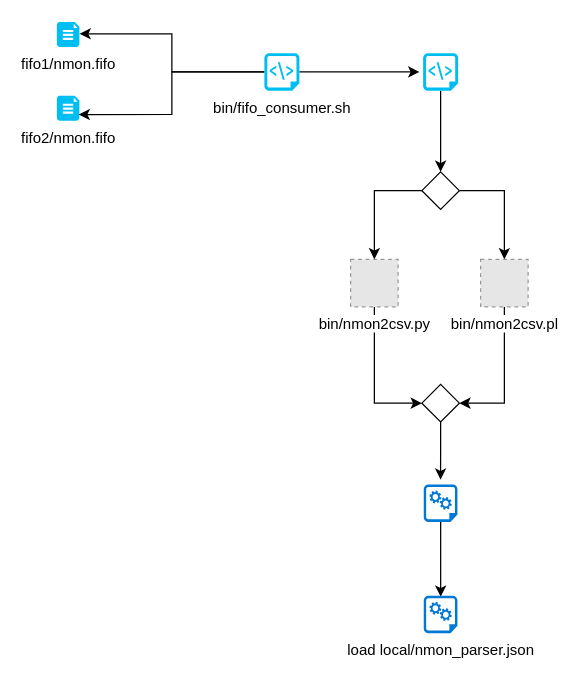
The diagram is 580 pixels wide and 680 high, and some of its shapes have lost their labels. Grey dashed boxes stand in for pictures. The shapes that lost their labels are listed below. From the top down, each one's box as (x1, y1, x2, y2) in pixels, then its label:
(422, 52, 458, 90): bin/nmon2csv.sh
(423, 484, 457, 521): load default/nmon_parser.json
